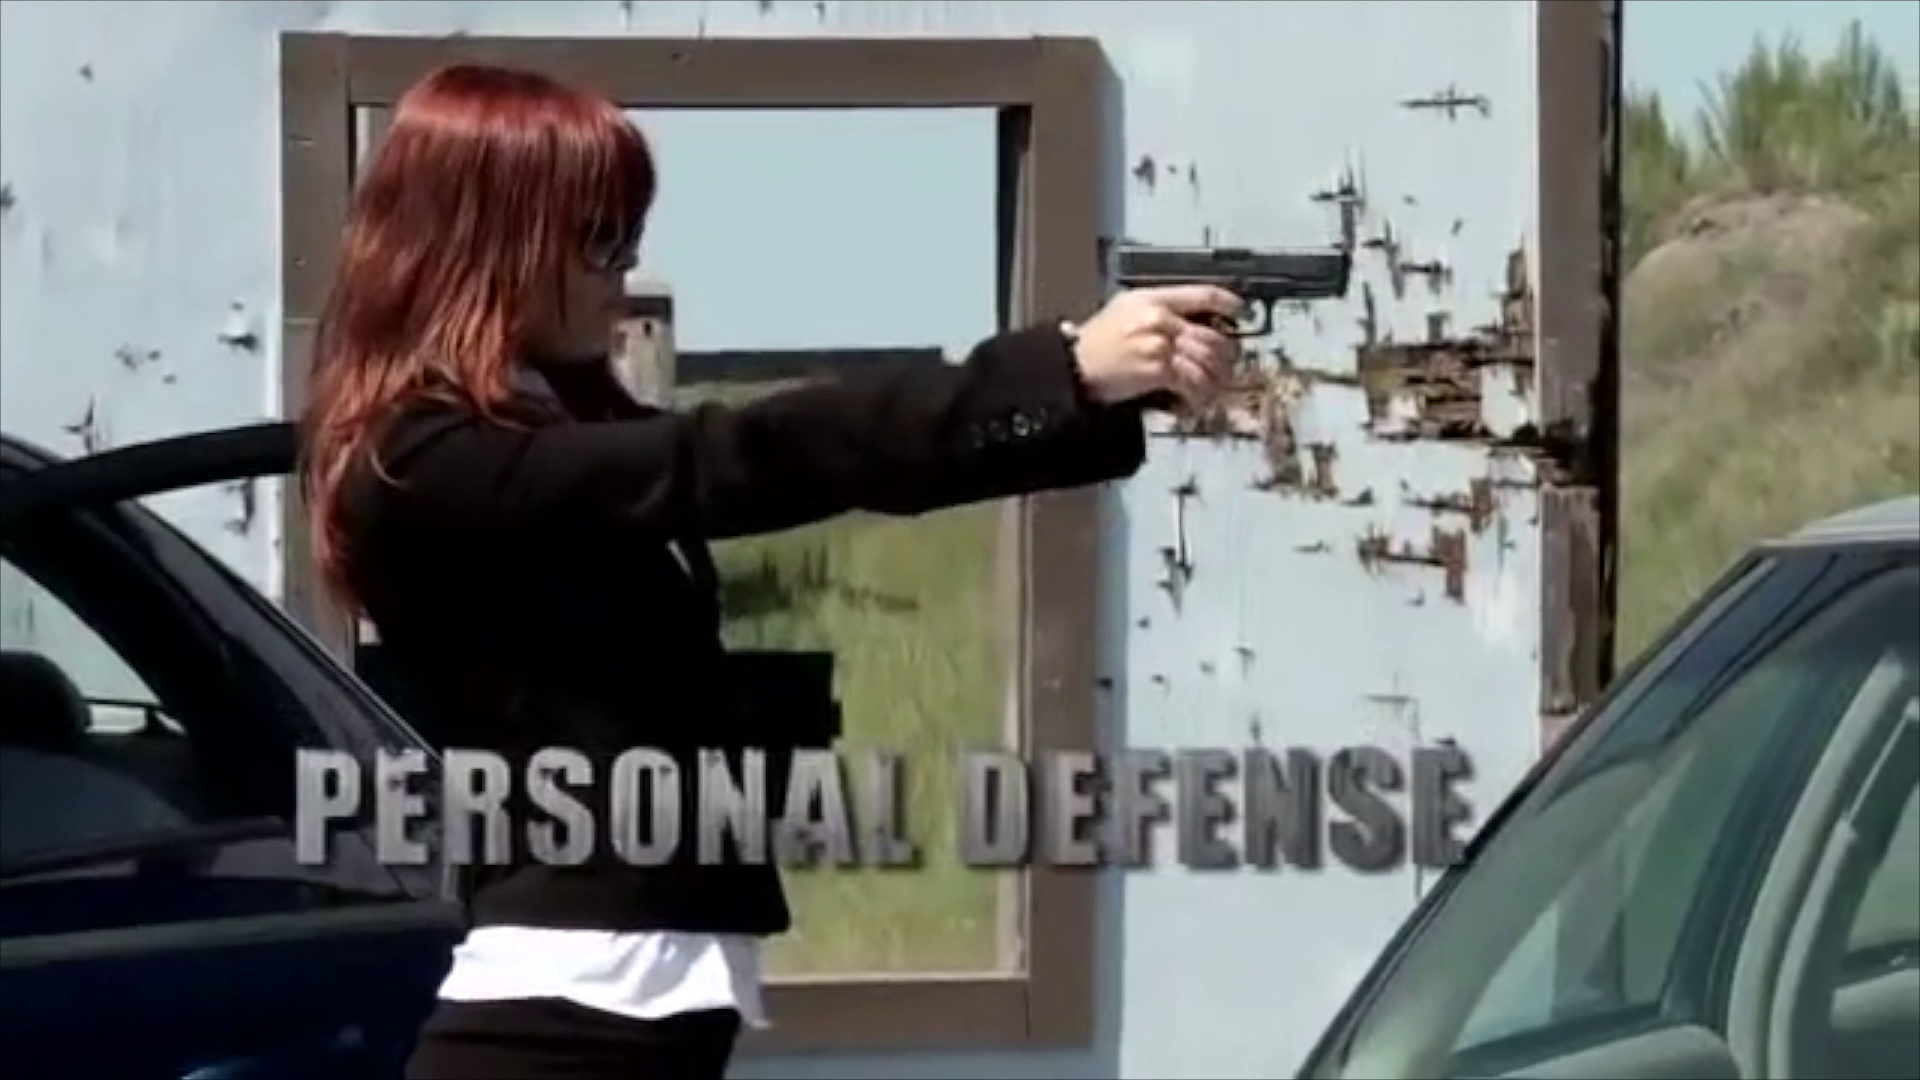gun: (1098, 219, 1331, 344)
